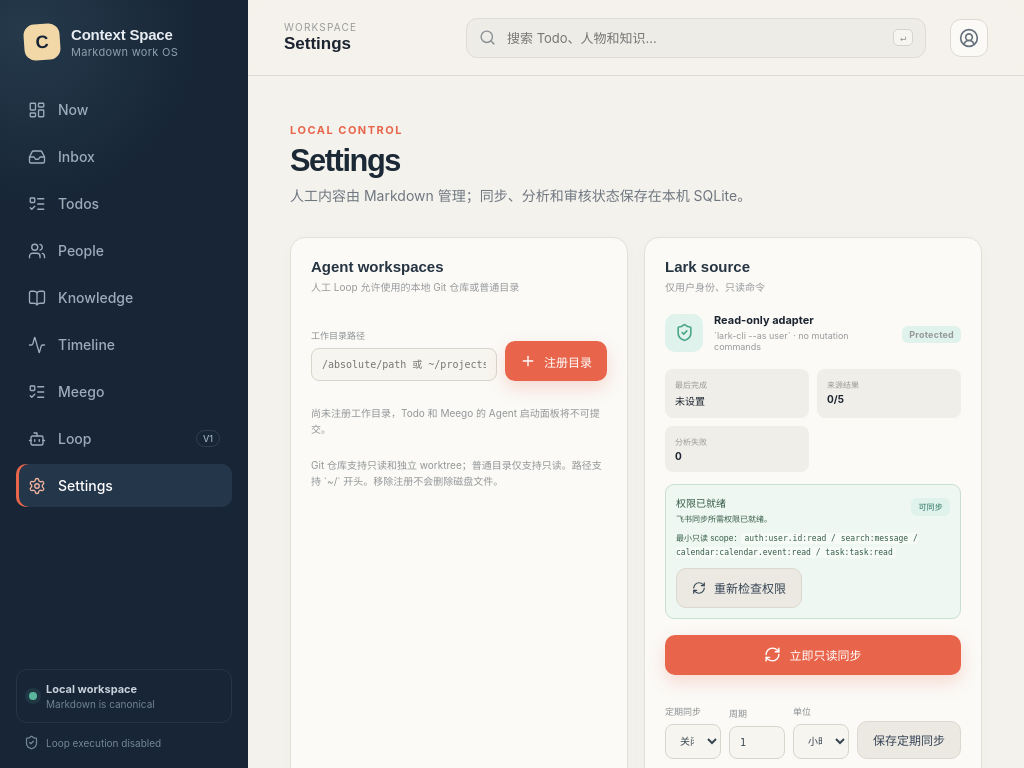
Context Space workbench › configures periodic read-only synchronization in minutes
This screenshot has width=1024, height=768.
Select "开启" in the dropdown named "定期只读同步状态": (693, 742) [665,724,721,759]
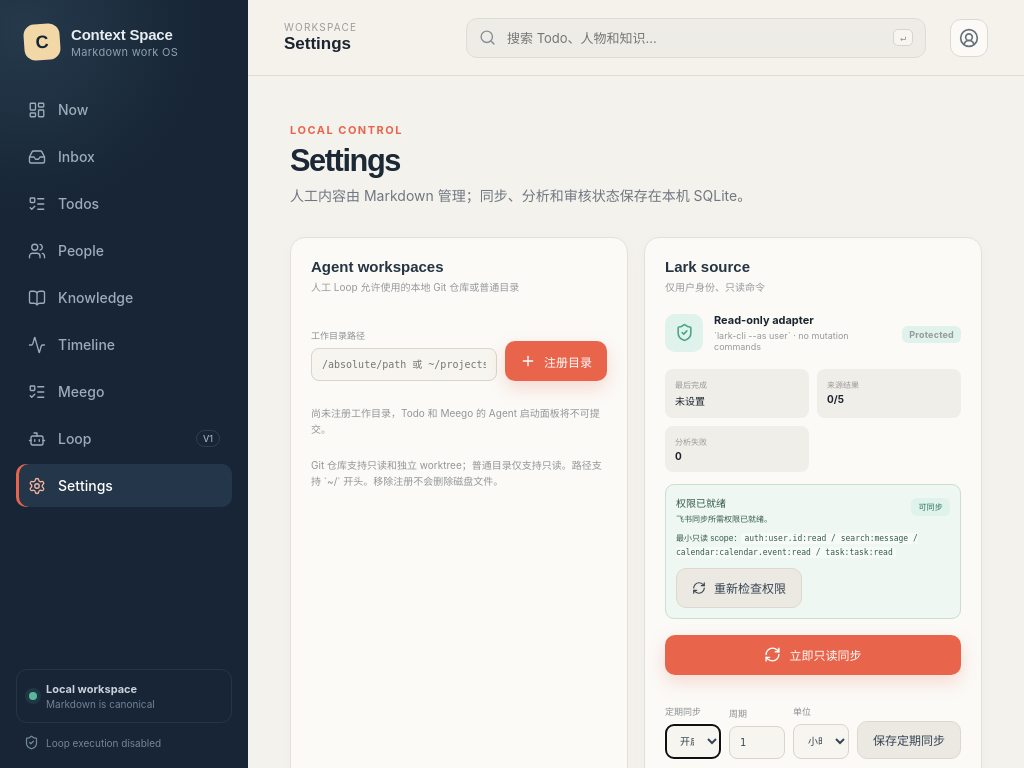
Replace the text in the number field named "定期同步周期" with "30": (757, 742) [729,726,785,759]
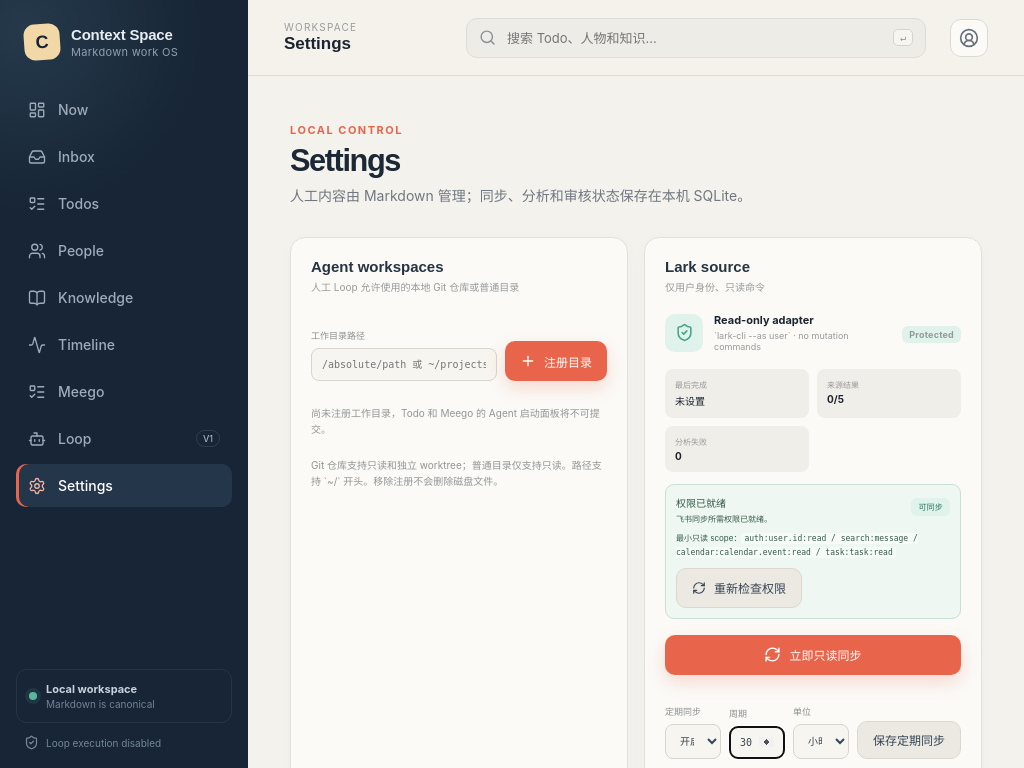
Select "分钟" in the dropdown named "定期同步周期单位": (821, 742) [793,724,849,759]
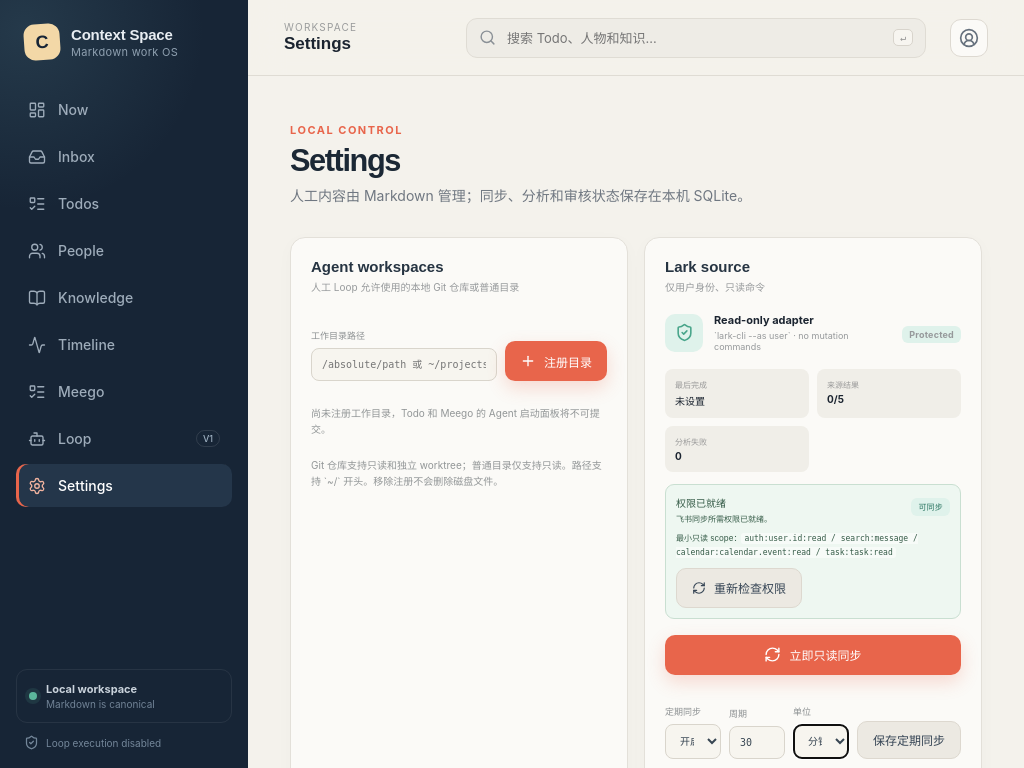
Click the button "保存定期同步": click(909, 740) [857,721,961,759]
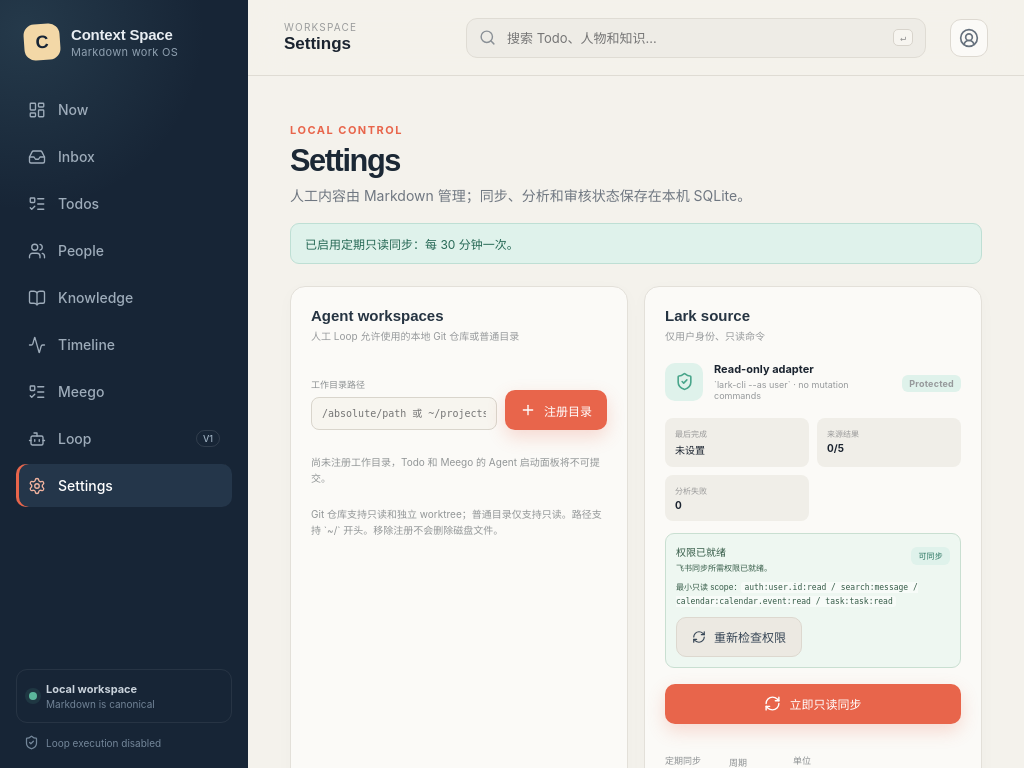
Result: the text "已启用定期只读同步：每 30 分钟一次。" is shown at [290,223,982,264]
